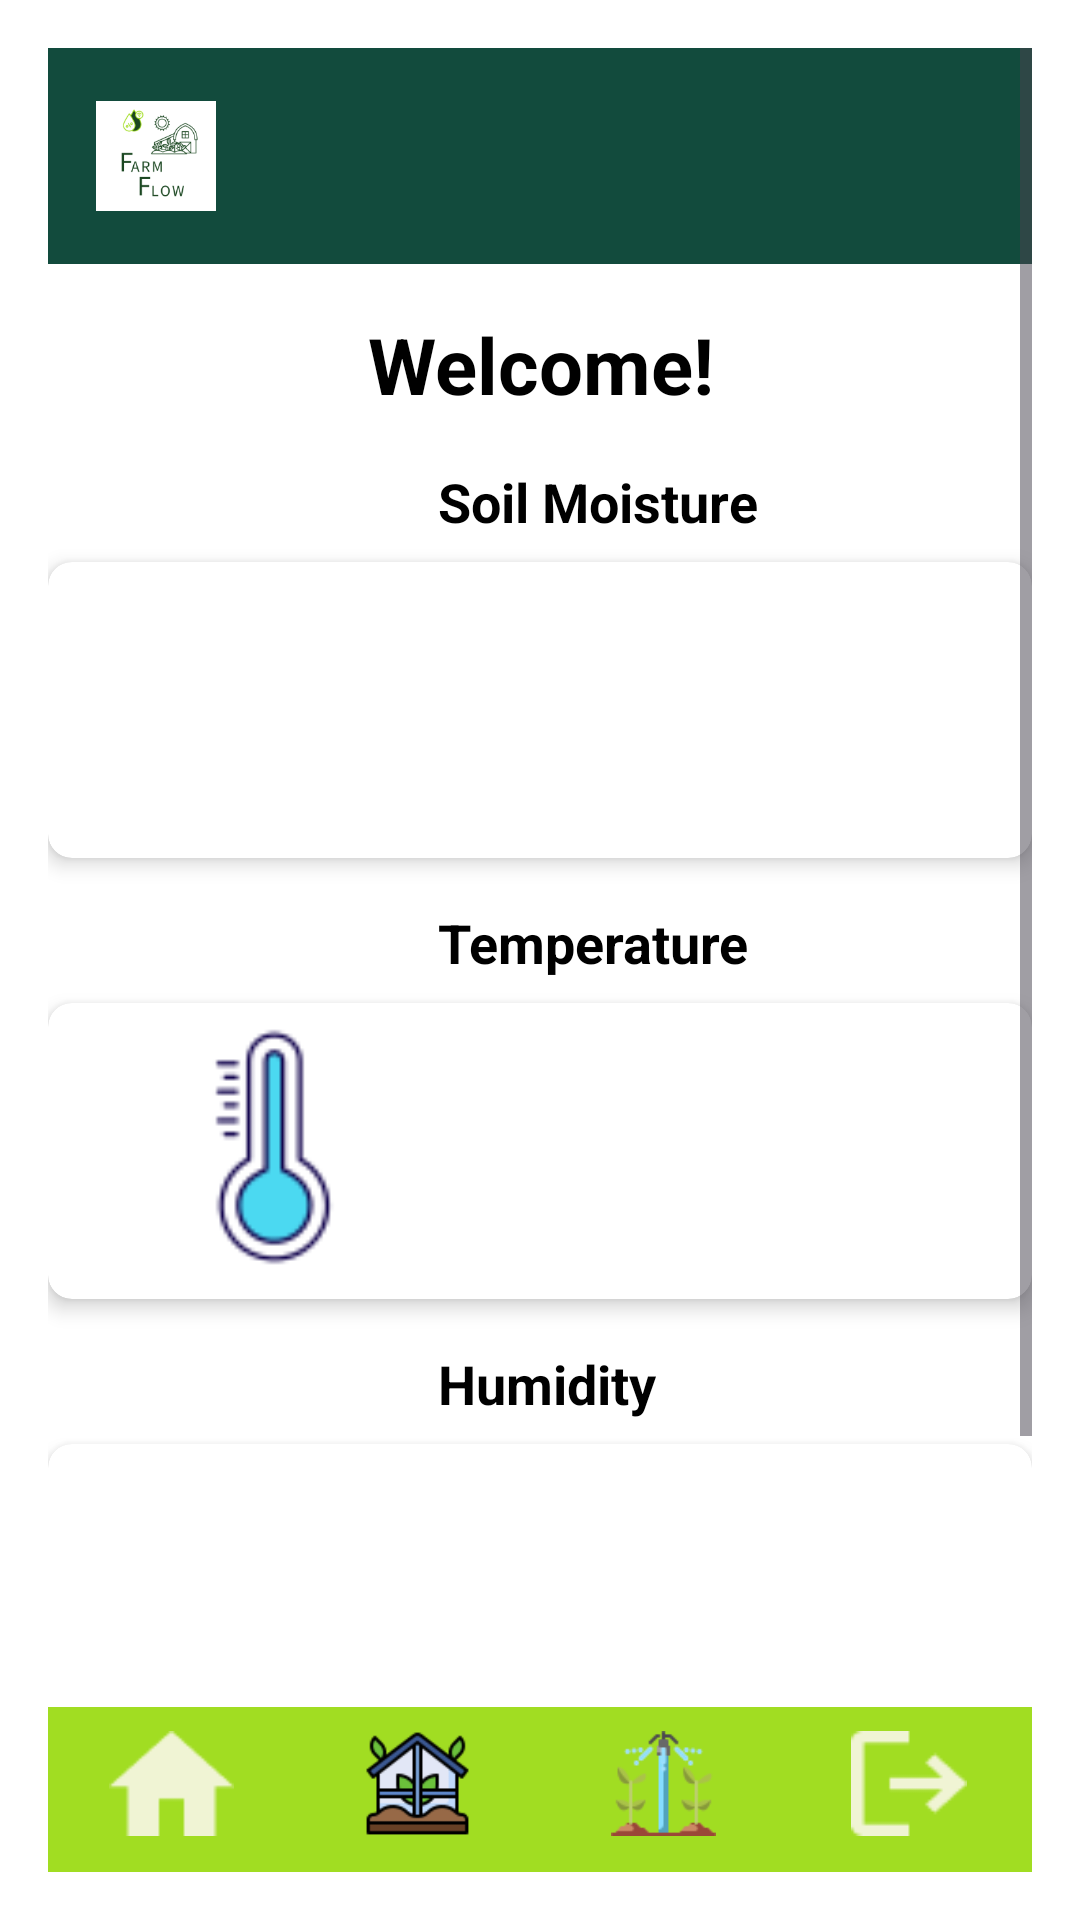

Where to tap for icons on this 1080w x 1920h app screen, as [x,y]:
celsius: [273,1147]
Greenhouses: [417,1783]
Home: [171,1783]
Irrigation: [663,1783]
